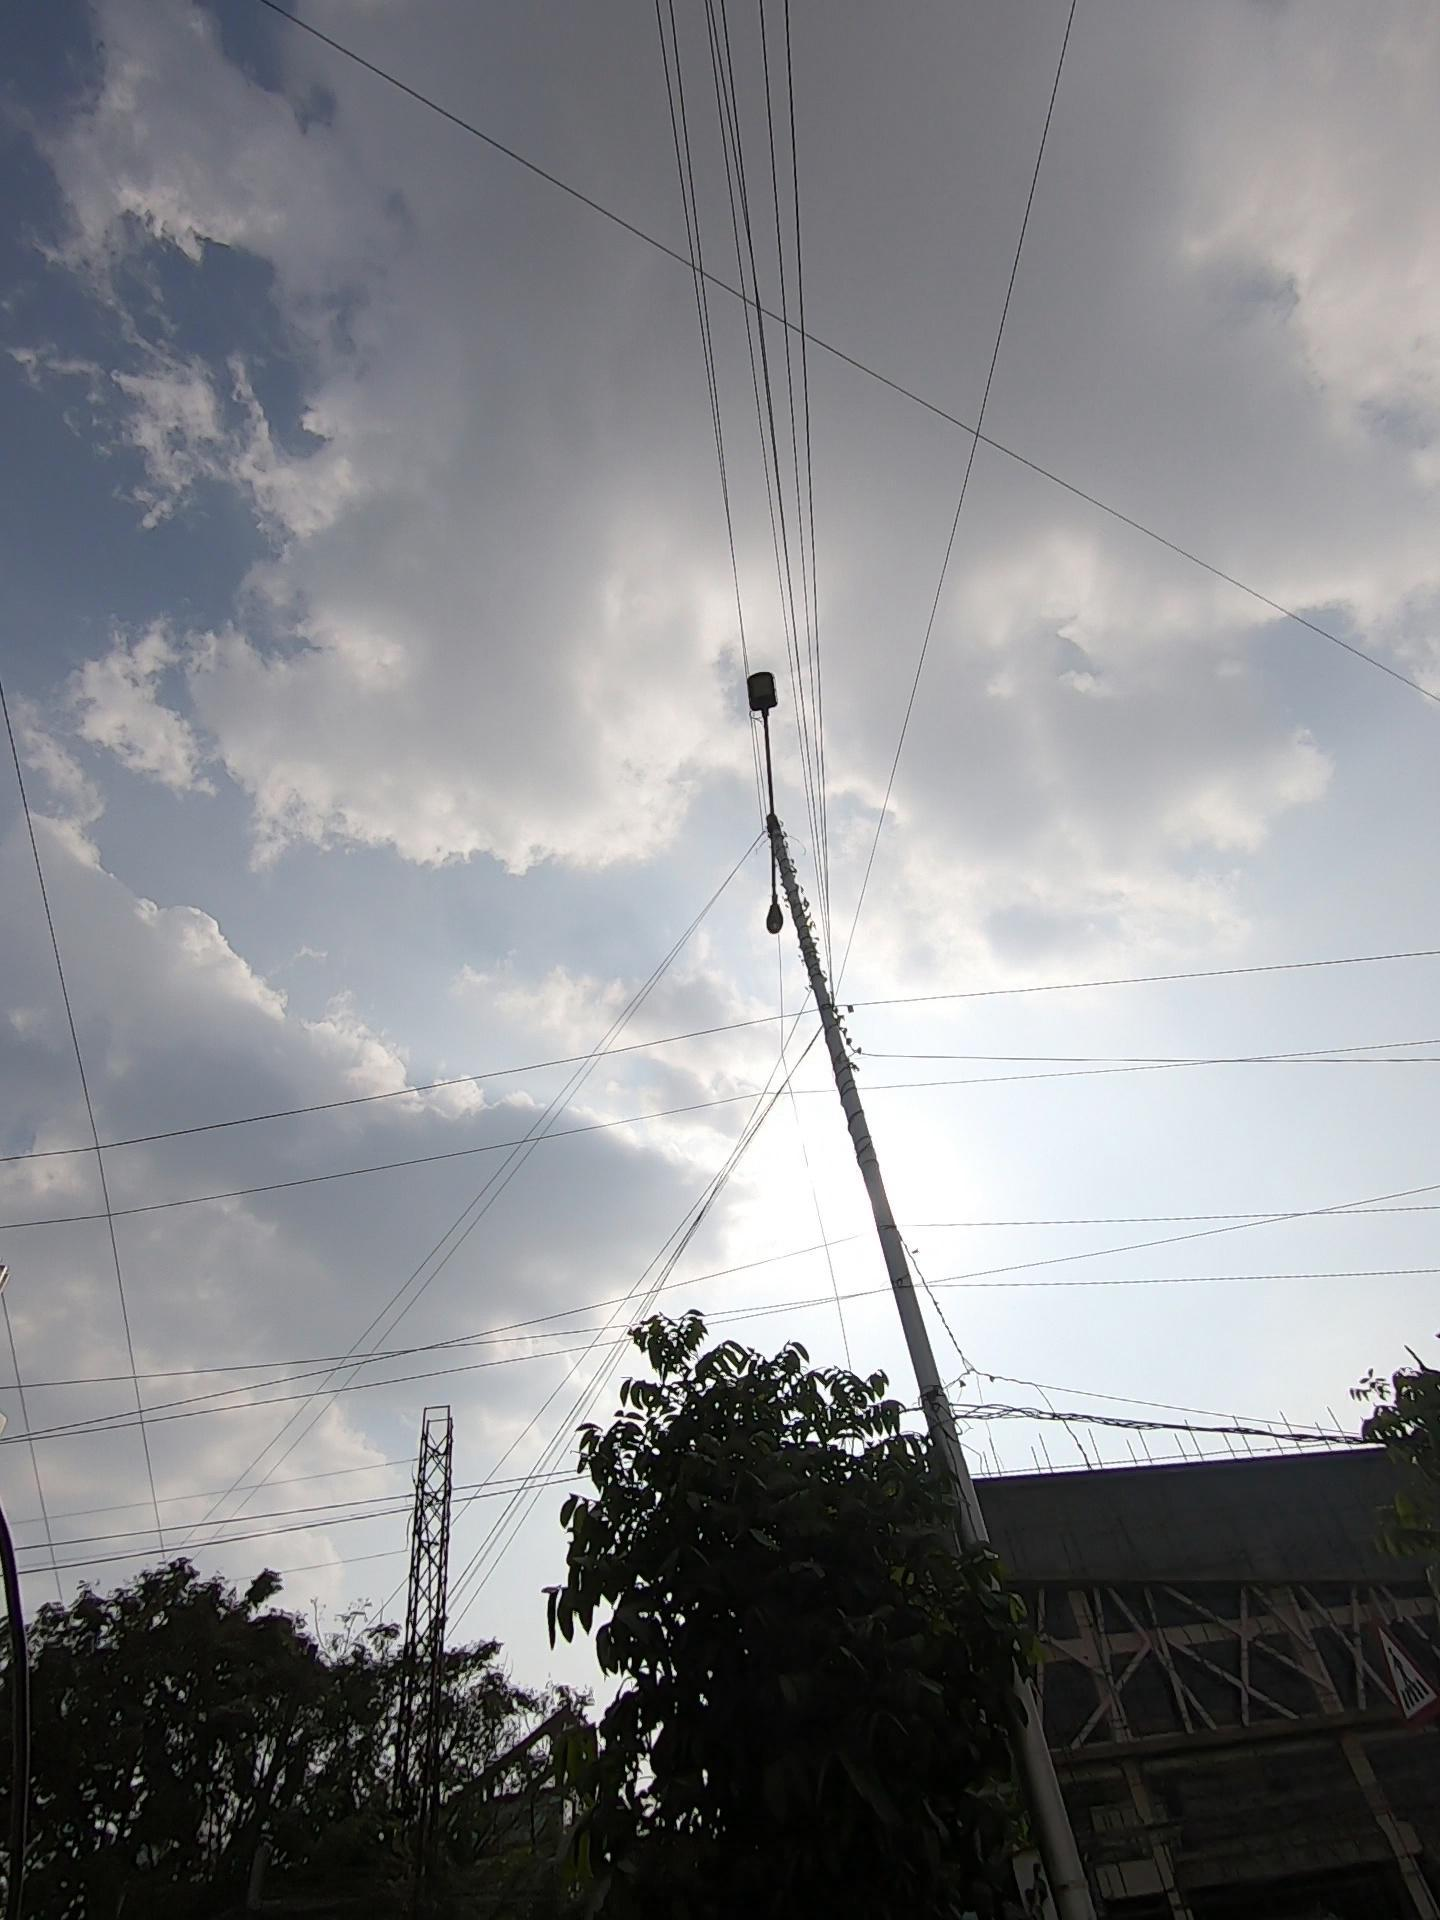off: (700, 630, 847, 987)
